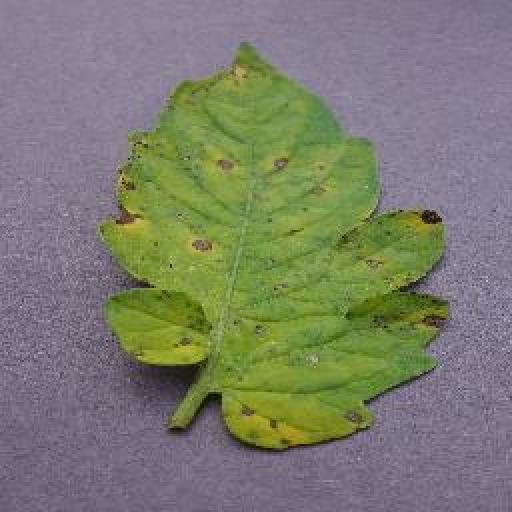Septoria: (100, 44, 454, 452)
